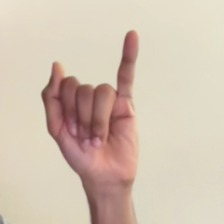I: (17, 21, 164, 197)
